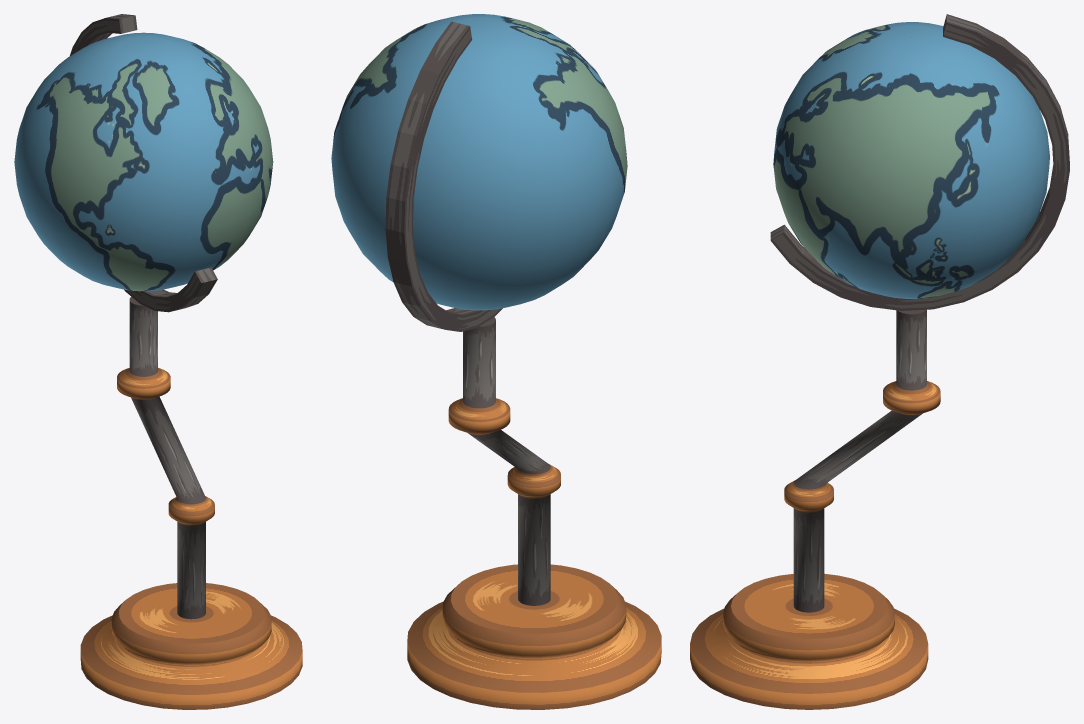
The model's file is Globe.fbx.
3 renders of one model, left to right at view 1: azimuth 30°, elevation 25°; view 2: azimuth 150°, elevation 25°; view 3: azimuth 270°, elevation 25°, orthographic. The views are drawn at different scales.
Parts seen in each view (by area): view 1: Globe_itself, Globe_stand, Globe_holder; view 2: Globe_itself, Globe_stand, Globe_holder; view 3: Globe_itself, Globe_stand, Globe_holder.
Boxes of the visible parts, x1=… form: Globe_itself: x1=14, y1=32, x2=273, y2=291; Globe_stand: x1=80, y1=296, x2=302, y2=709; Globe_holder: x1=70, y1=14, x2=217, y2=312; Globe_itself: x1=331, y1=14, x2=627, y2=310; Globe_stand: x1=407, y1=317, x2=661, y2=709; Globe_holder: x1=385, y1=21, x2=502, y2=331; Globe_itself: x1=773, y1=22, x2=1049, y2=298; Globe_stand: x1=690, y1=309, x2=940, y2=709; Globe_holder: x1=770, y1=14, x2=1069, y2=310.
Size of the model in its own units: 50.71 by 130 by 69.61.
1 material, 1 textured.
